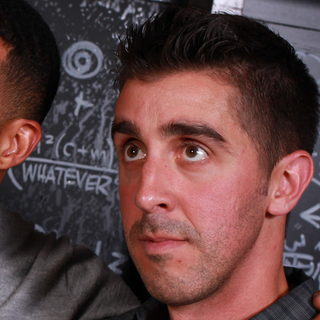eye: (174, 139, 217, 166), (118, 139, 148, 163)
